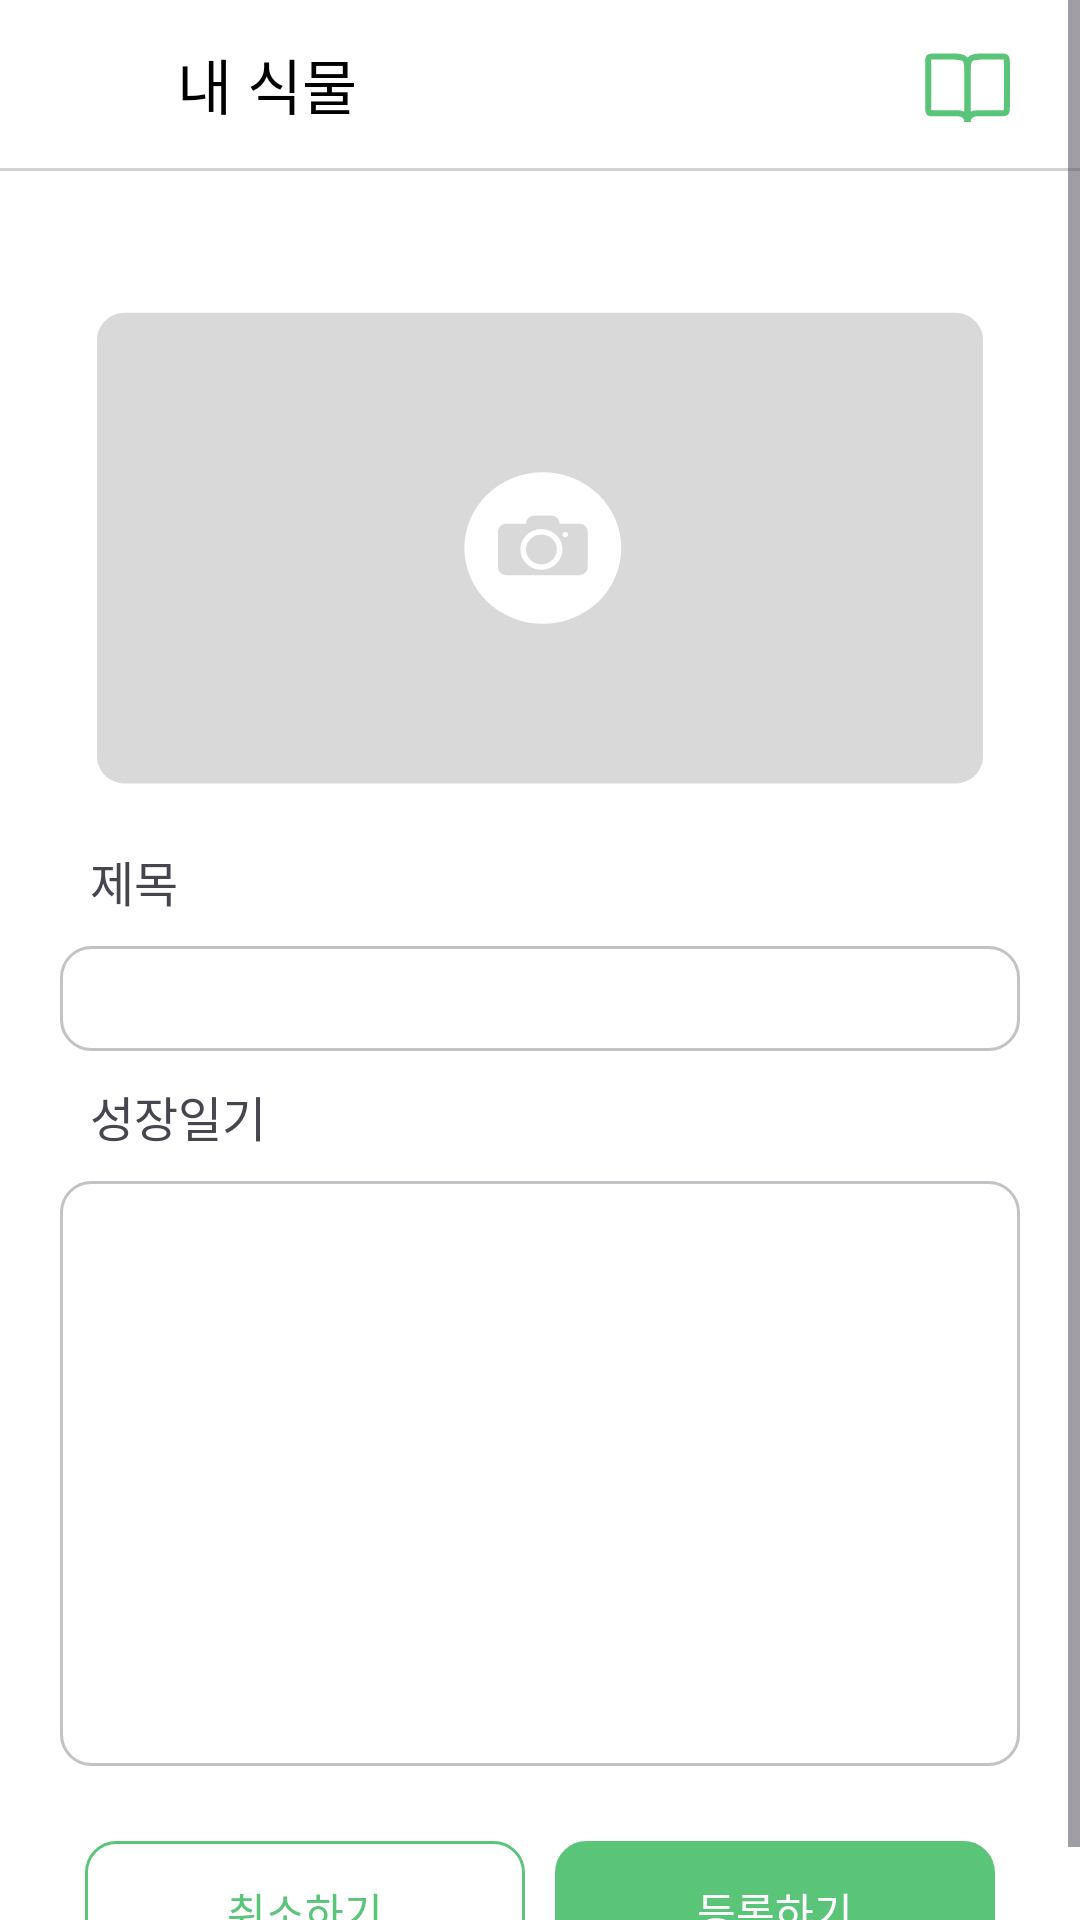

Icon click points for this 1080×1920 phone screenshot, format point (x, y):
cal diary guidebook: point (967, 87)
